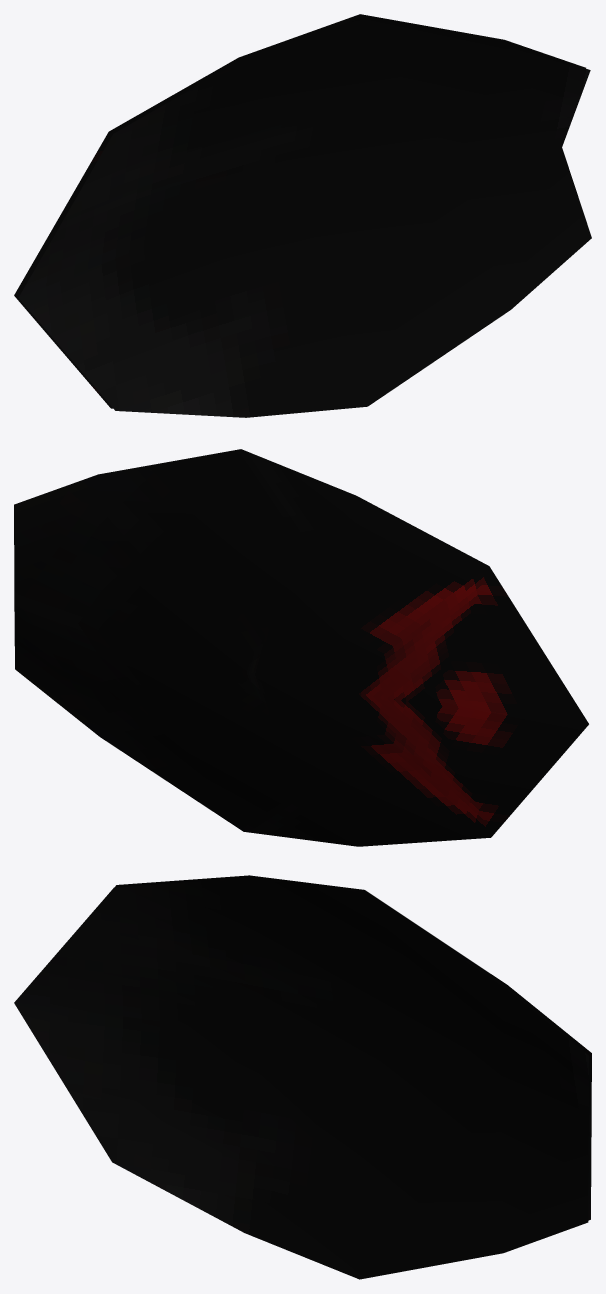
3 renders of one model, top to bottom at view 1: azimuth 30°, elevation 25°; view 2: azimuth 150°, elevation 25°; view 3: azimuth 330°, elevation 25°, orthographic.
Visible parts, largest first — view 1: IT214_DMSPRITEDEF_node; view 2: IT214_DMSPRITEDEF_node; view 3: IT214_DMSPRITEDEF_node.
Part boxes in pixels (<box>): IT214_DMSPRITEDEF_node: <box>14,14,591,417</box>; IT214_DMSPRITEDEF_node: <box>14,449,588,846</box>; IT214_DMSPRITEDEF_node: <box>14,875,591,1279</box>.
Bounding box in the file's own units: 2.77 × 1.78 × 0.3073.
Materials: 1 (1 with a texture image).
